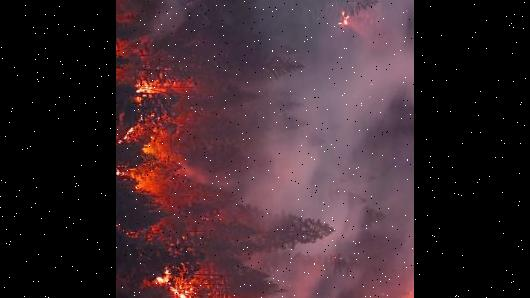fire: (116, 72, 166, 182), (155, 271, 237, 298)
